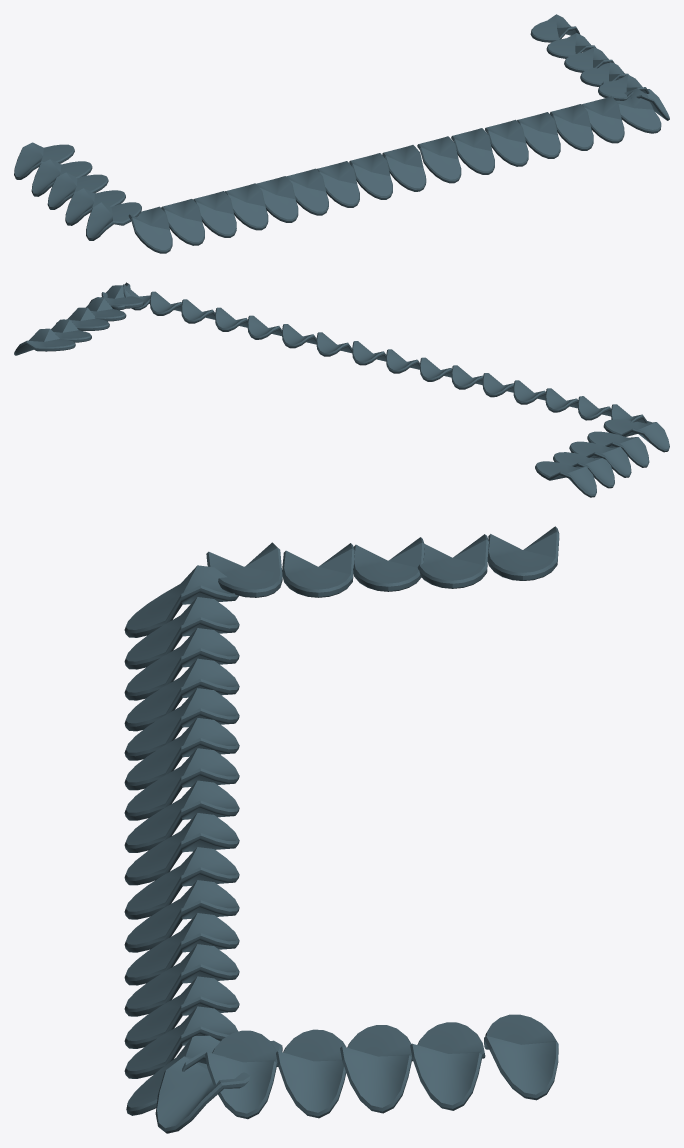
The model's file is canopy_v3.fbx.
3 views of the same model, one above another, from view 1: azimuth 30°, elevation 25°; view 2: azimuth 150°, elevation 25°; view 3: azimuth 270°, elevation 25° (orthographic). The views are drawn at different scales.
Visible parts, largest first — view 1: pCylinder16, pCylinder18, pCylinder17, pCylinder15, pCylinder20, pCylinder14, pCylinder7, pCylinder8, pCylinder19, pCylinder9, pCylinder10, pCylinder13 (+15 smaller); view 2: pCylinder1, pCylinder5, pCylinder3, pCylinder4, pCylinder2, pCylinder28, pCylinder26, pCylinder24, pCylinder27, pCylinder25, pCylinder16, pCylinder17 (+13 smaller); view 3: pCylinder27, pCylinder26, pCylinder28, pCylinder25, pCylinder24, pCylinder23, pCylinder15, pCylinder16, pCylinder17, pCylinder14, pCylinder13, pCylinder19 (+15 smaller).
Part boxes in pixels (left/top/right/bottom): pCylinder16: left=417, top=136, right=461, bottom=183; pCylinder18: left=485, top=119, right=528, bottom=166; pCylinder17: left=451, top=128, right=494, bottom=174; pCylinder15: left=382, top=145, right=426, bottom=191; pCylinder20: left=550, top=104, right=593, bottom=150; pCylinder14: left=349, top=153, right=392, bottom=199; pCylinder7: left=128, top=206, right=172, bottom=253; pCylinder8: left=161, top=199, right=204, bottom=245; pCylinder19: left=517, top=112, right=560, bottom=158; pCylinder9: left=193, top=191, right=236, bottom=237; pCylinder10: left=225, top=183, right=268, bottom=230; pCylinder13: left=317, top=161, right=359, bottom=207; pCylinder1: left=535, top=461, right=596, bottom=497; pCylinder5: left=603, top=419, right=669, bottom=452; pCylinder3: left=569, top=441, right=631, bottom=477; pCylinder4: left=587, top=431, right=649, bottom=467; pCylinder2: left=553, top=452, right=614, bottom=488; pCylinder28: left=14, top=328, right=75, bottom=355; pCylinder26: left=56, top=307, right=109, bottom=330; pCylinder24: left=89, top=285, right=144, bottom=308; pCylinder27: left=51, top=319, right=91, bottom=342; pCylinder25: left=86, top=298, right=126, bottom=321; pCylinder16: left=316, top=332, right=352, bottom=356; pCylinder17: left=281, top=324, right=316, bottom=348; pCylinder27: left=410, top=1022, right=485, bottom=1110; pCylinder26: left=340, top=1025, right=412, bottom=1113; pCylinder28: left=484, top=1014, right=558, bottom=1100; pCylinder25: left=276, top=1029, right=346, bottom=1118; pCylinder24: left=205, top=1030, right=278, bottom=1119; pCylinder23: left=155, top=1040, right=282, bottom=1133; pCylinder15: left=124, top=813, right=239, bottom=885; pCylinder16: left=124, top=847, right=239, bottom=919; pCylinder17: left=124, top=880, right=239, bottom=952; pCylinder14: left=124, top=780, right=239, bottom=852; pCylinder13: left=124, top=748, right=239, bottom=820; pCylinder19: left=124, top=944, right=239, bottom=1016.
Size of the model in its own units: 8.31 by 0.5577 by 2.76.
